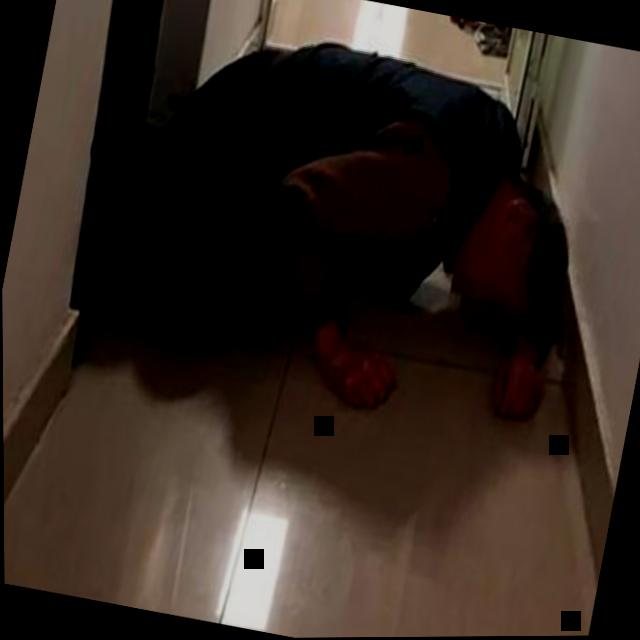Fall-Detected: (44, 0, 637, 466)
